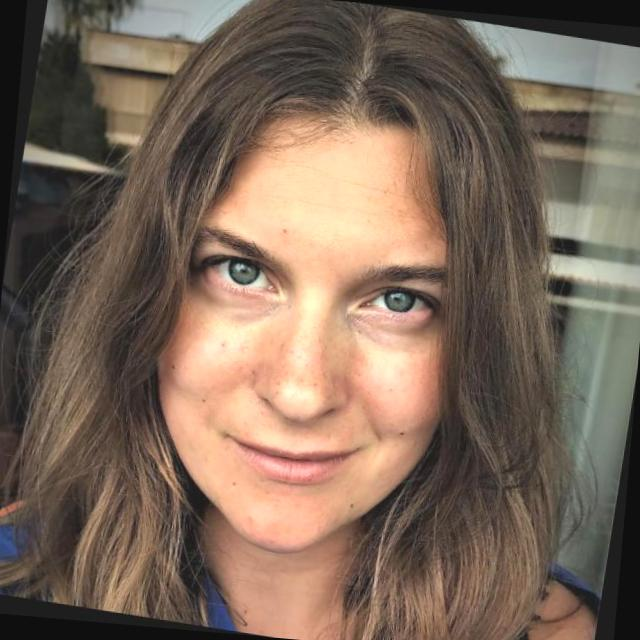freckle: (166, 305, 446, 412)
